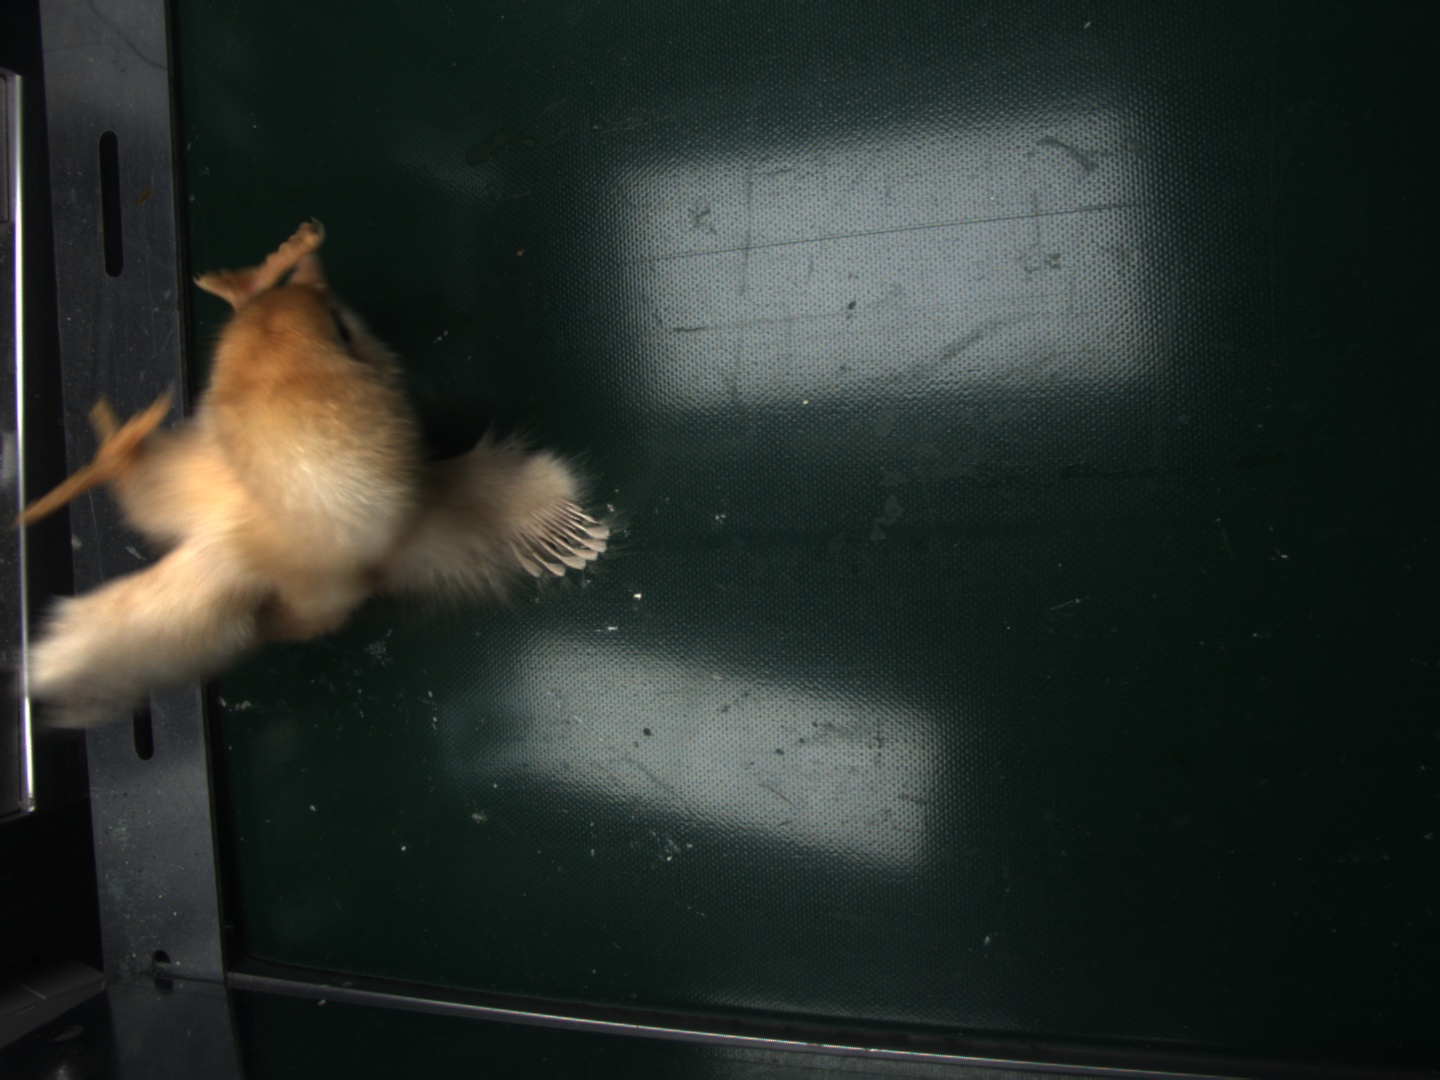female: (523, 500, 613, 583)
